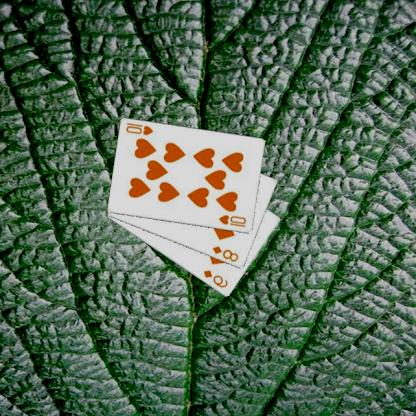10H: (125, 120, 157, 137), (218, 212, 249, 229)
6D: (203, 267, 231, 290)
8D: (211, 243, 242, 263)
